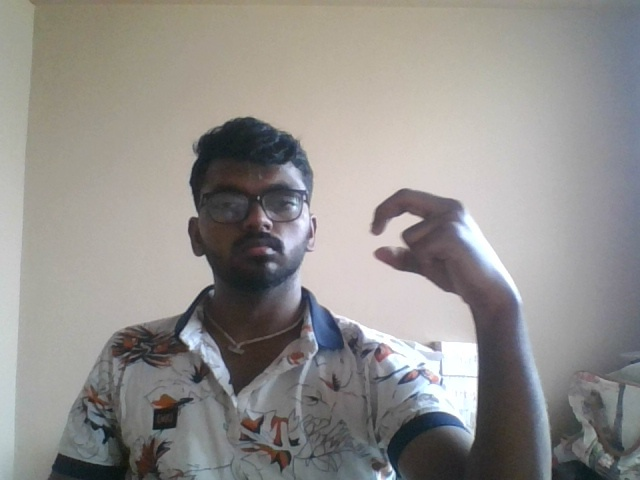No: (358, 169, 526, 334)
